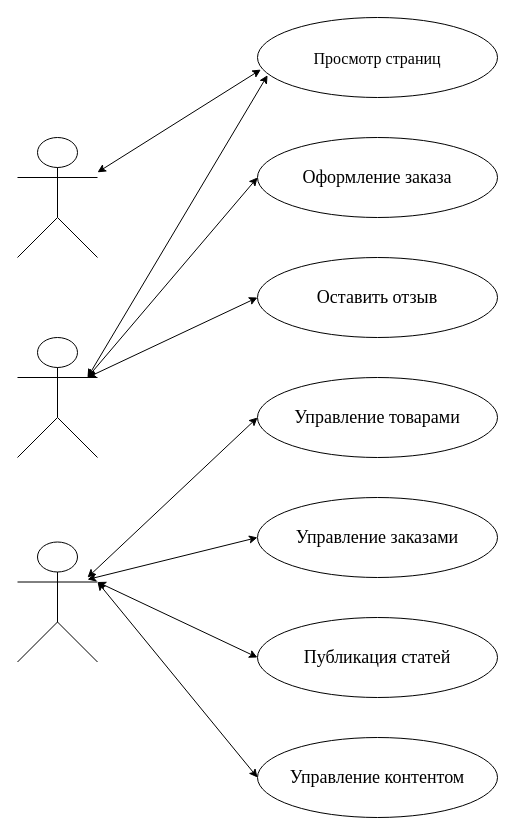
Some shapes in this 515 by 835 pixel diagram are drawn without their labels. The box of each missing label's shape, as (x1, y1, x2, y2) in pixels:
Админ: (16, 541, 98, 662)
Гость: (16, 136, 98, 258)
Пользователь: (16, 336, 98, 458)
